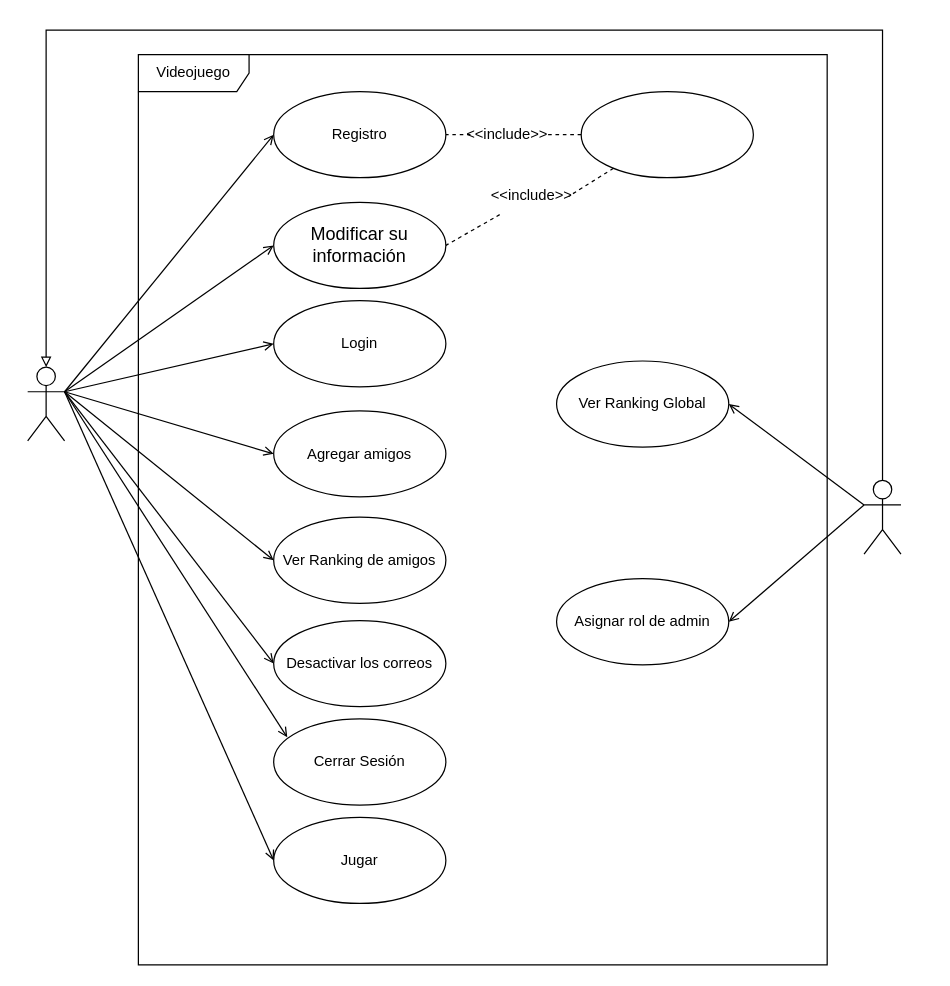
The diagram is 950 pixels wide and 986 high, and some of its shapes have lost their labels. The shapes that lost their labels are listed below. From the top down, each one's box as (x1, y1, x2, y2) in pixels, then its label:
(580, 90, 753, 178): Elegir Avatar
(26, 366, 65, 441): Usuario
(863, 479, 901, 554): Administrador
